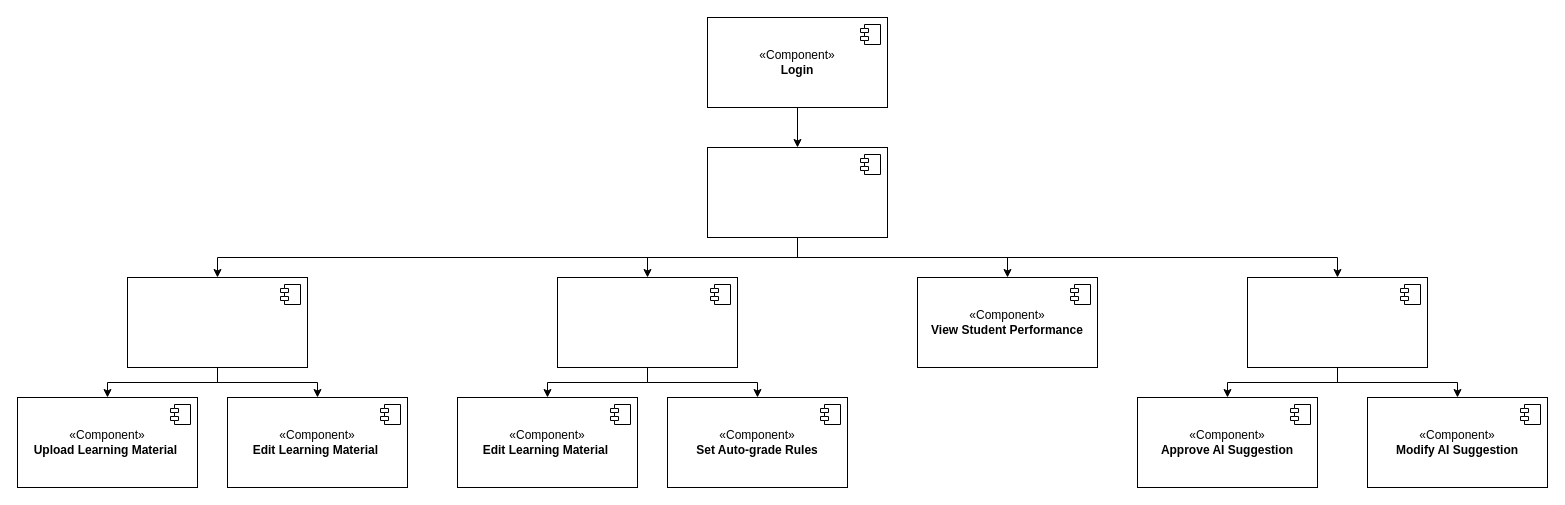
The diagram is 1565 pixels wide and 505 high, and some of its shapes have lost their labels. Here are the shapes that lost their labels. From the top down, the box of each, then its label:
(706, 146, 888, 238): «Component» Instructor Dashboard
(126, 276, 308, 368): «Component» Manage Learning Content
(556, 276, 738, 368): «Component» Manage Quiz
(1246, 276, 1428, 368): «Component» Generate AI Recommendations
